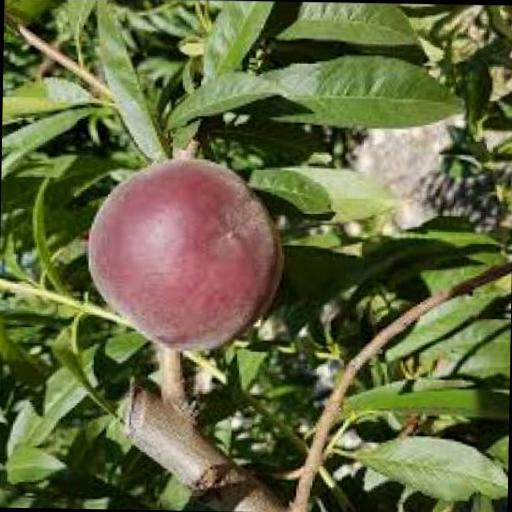biodegradable: (83, 157, 286, 353)
